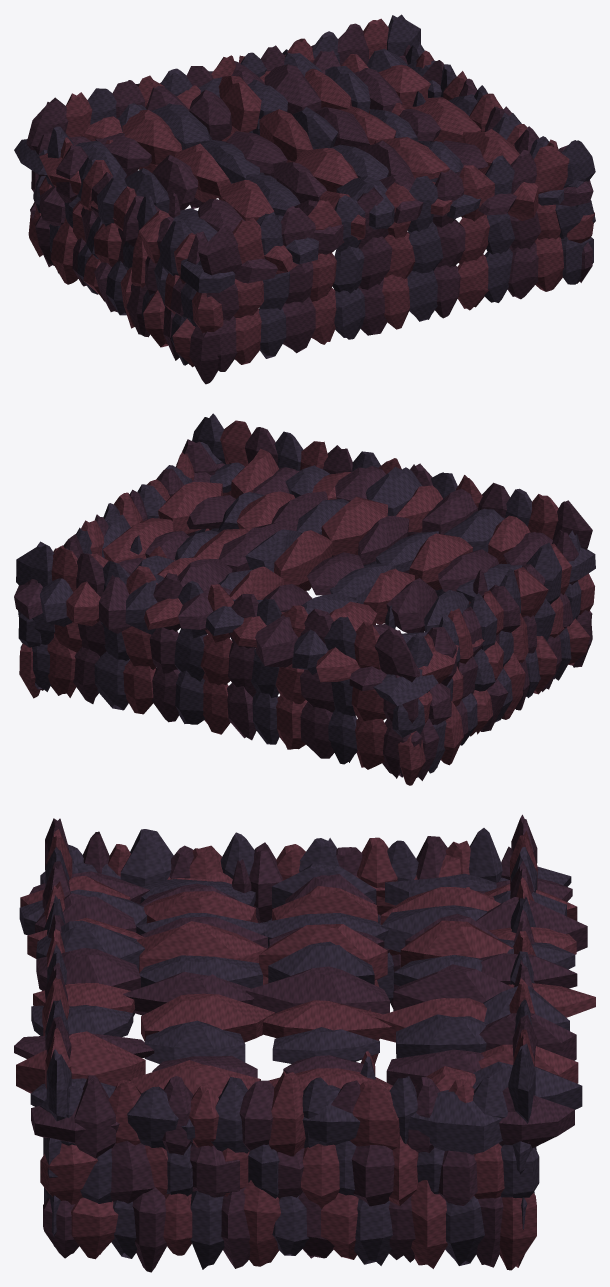
Rendered from vault.glb.
The picture shows the model from 3 angles, top to bottom: view 1: azimuth 30°, elevation 25°; view 2: azimuth 150°, elevation 25°; view 3: azimuth 270°, elevation 25°; orthographic projection. The views are drawn at different scales.
Parts seen in each view (by area): view 1: vault · Red-veined basalt, vault · Wine basalt, vault · Smoky slate; view 2: vault · Red-veined basalt, vault · Wine basalt, vault · Smoky slate; view 3: vault · Smoky slate, vault · Red-veined basalt, vault · Wine basalt.
Boxes of the visible parts, x1,y1,x2,y2 form: vault · Red-veined basalt: [28, 18, 594, 367]; vault · Wine basalt: [26, 23, 593, 384]; vault · Smoky slate: [14, 14, 595, 365]; vault · Red-veined basalt: [19, 420, 594, 785]; vault · Wine basalt: [14, 427, 592, 780]; vault · Smoky slate: [16, 413, 595, 773]; vault · Smoky slate: [19, 828, 582, 1269]; vault · Red-veined basalt: [16, 829, 595, 1270]; vault · Wine basalt: [14, 814, 587, 1272].
Size of the model in its own units: 45.44 by 16.66 by 40.67.
Materials: 3 (3 with a texture image).
